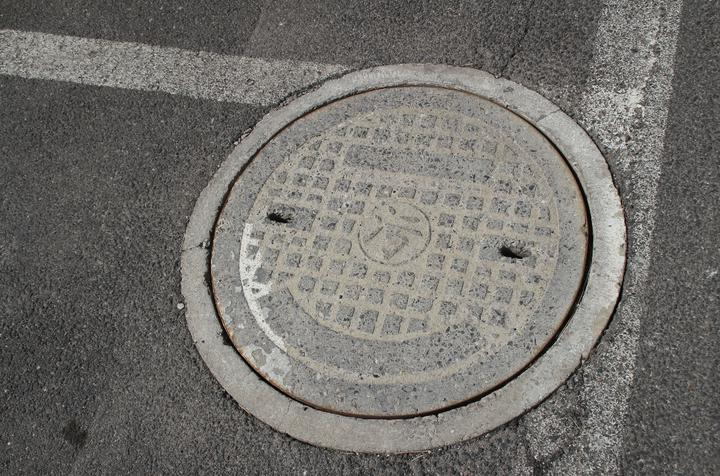wellcover: (196, 75, 597, 415)
